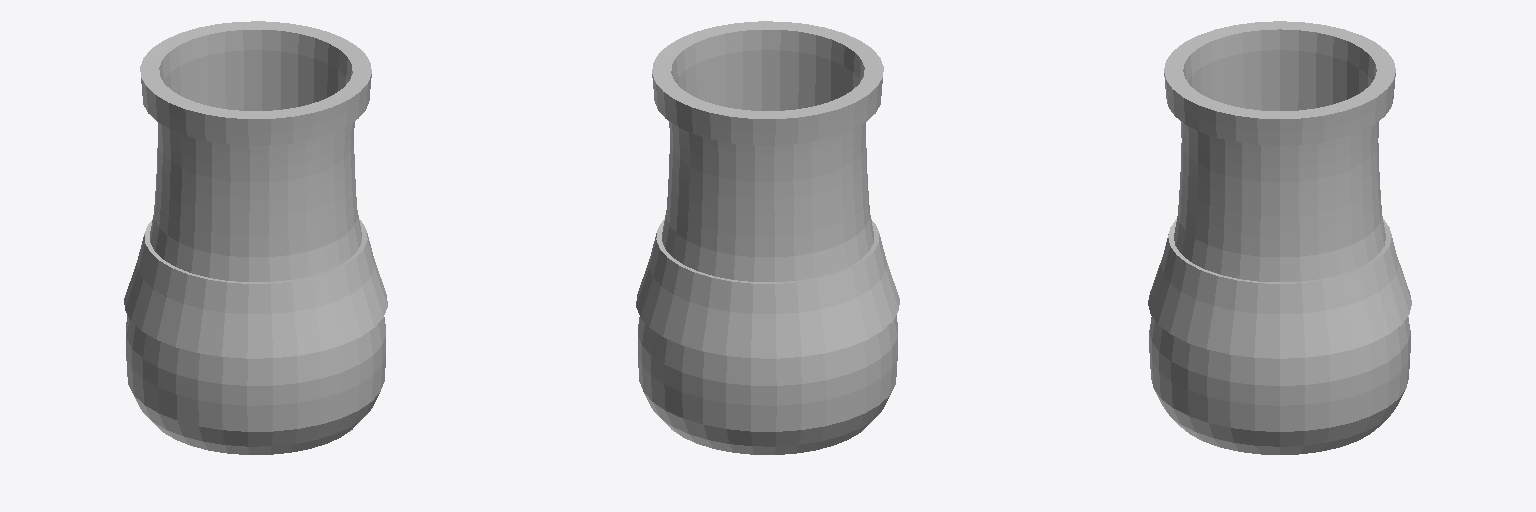
File: cannon_11.obj
3 renders of one model, left to right at view 1: azimuth 30°, elevation 25°; view 2: azimuth 150°, elevation 25°; view 3: azimuth 270°, elevation 25°, orthographic.
Parts seen in each view (by area): view 1: 炮管.003_柱体.009; view 2: 炮管.003_柱体.009; view 3: 炮管.003_柱体.009.
Boxes of the visible parts, x1,y1,x2,y2 form: 炮管.003_柱体.009: [124, 21, 387, 454]; 炮管.003_柱体.009: [636, 21, 899, 454]; 炮管.003_柱体.009: [1148, 21, 1411, 454].
Bounding box in the file's own units: 0.9113 × 1.41 × 0.9113.